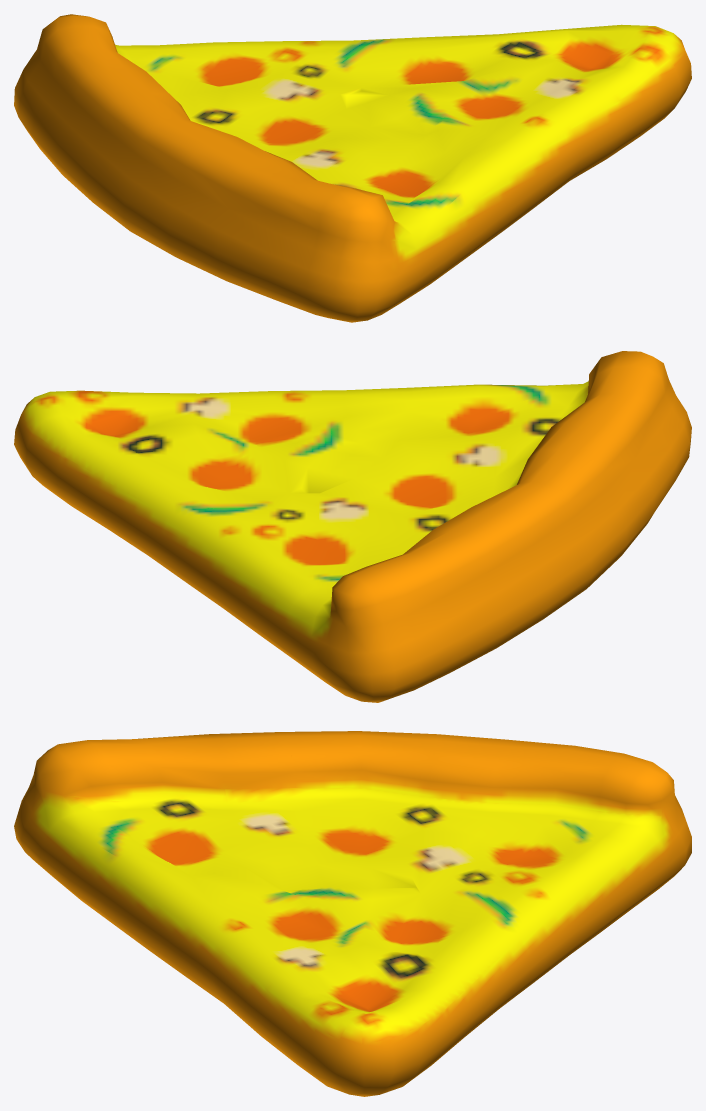
File: Phao13.fbx
The picture shows the model from 3 angles, top to bottom: view 1: azimuth 30°, elevation 25°; view 2: azimuth 150°, elevation 25°; view 3: azimuth 270°, elevation 25°; orthographic projection. The views are drawn at different scales.
Visible parts, largest first — view 1: Retopo_Pizza_low_Pizza_0.001; view 2: Retopo_Pizza_low_Pizza_0.001; view 3: Retopo_Pizza_low_Pizza_0.001.
Boxes of the visible parts, left/top/right/bottom form: Retopo_Pizza_low_Pizza_0.001: left=14, top=14, right=691, bottom=322; Retopo_Pizza_low_Pizza_0.001: left=14, top=351, right=691, bottom=702; Retopo_Pizza_low_Pizza_0.001: left=14, top=731, right=691, bottom=1096.
Size of the model in its own units: 1.72 by 0.3827 by 1.73.
